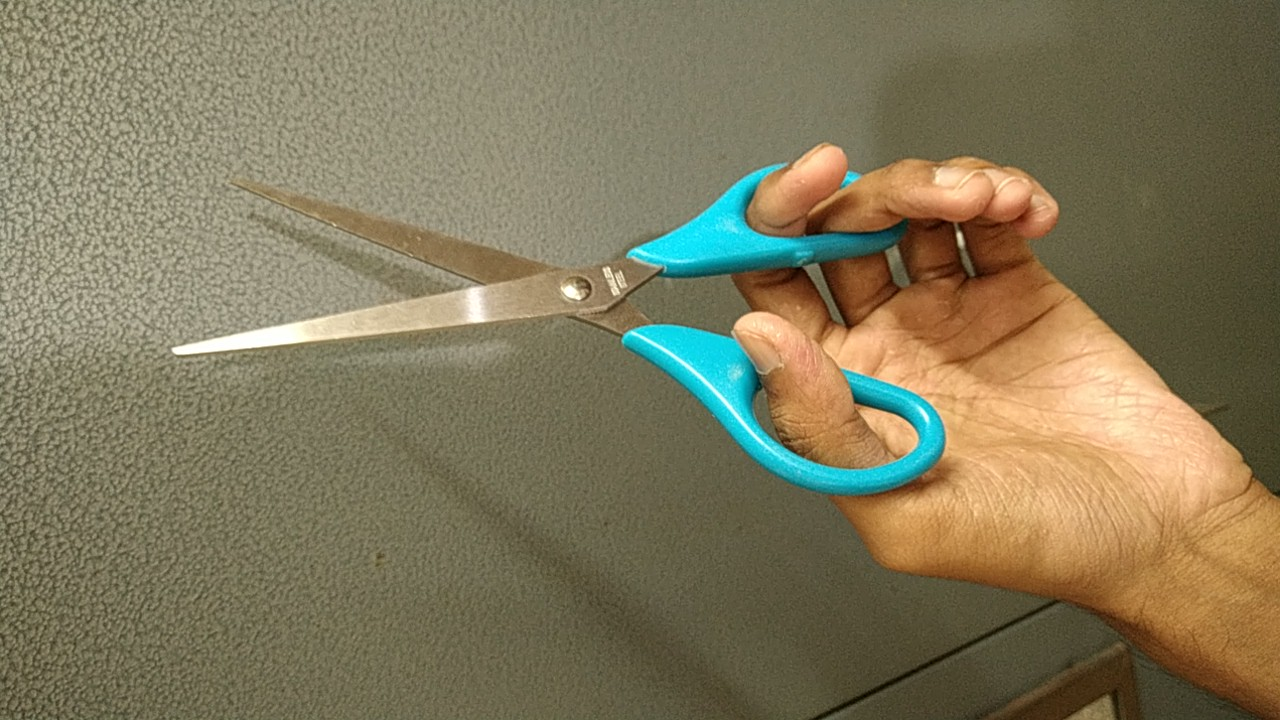scissor: (156, 147, 956, 518)
